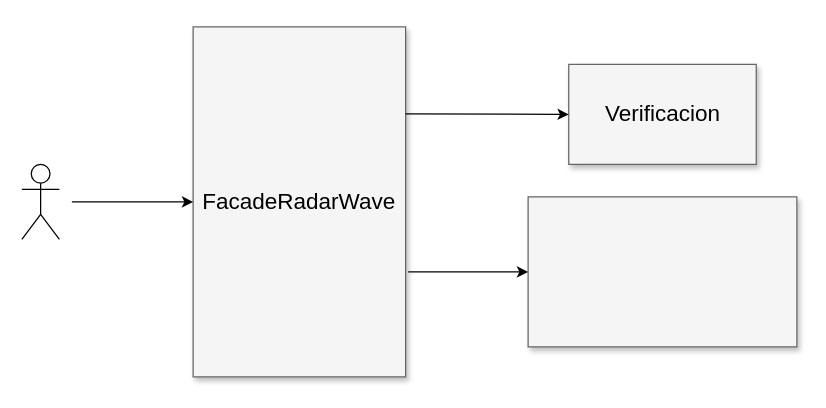
The diagram is 826 pixels wide and 408 high, and some of its shapes have lost their labels. The shapes that lost their labels are listed below. From the top down, each one's centre as x and y in pixels, then its label:
At point 40,201: "Actor".
At point 663,273: "TratamientoDatos".
